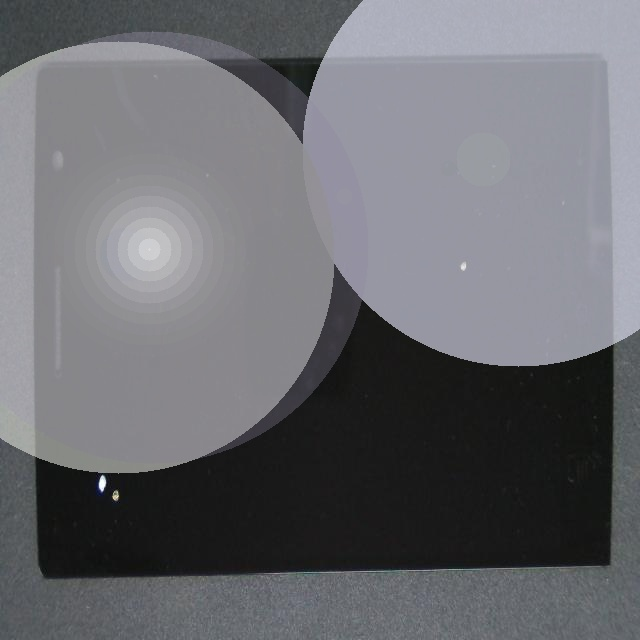stain: (215, 190, 640, 431), (19, 214, 156, 640)
